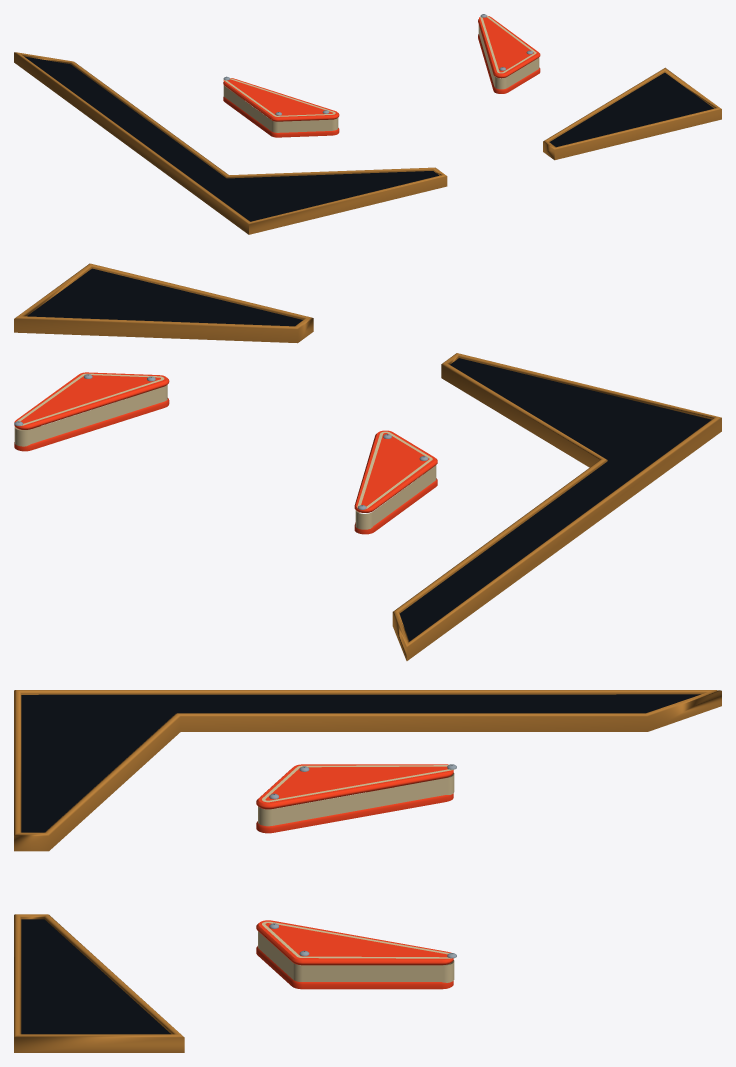
Rendered from common-plastics.dae.
The picture shows the model from 3 angles, top to bottom: view 1: azimuth 30°, elevation 25°; view 2: azimuth 150°, elevation 25°; view 3: azimuth 270°, elevation 25°; orthographic projection. The views are drawn at different scales.
Visible parts, largest first — view 1: cabinet_shell, accent, enamel, sling_lens_0, sling_lens_1; view 2: cabinet_shell, accent, enamel, sling_lens_1, sling_lens_0; view 3: cabinet_shell, accent, enamel, sling_lens_1, sling_lens_0.
Part boxes in pixels (bbox=[...]): cabinet_shell: bbox=[24, 56, 713, 221]; accent: bbox=[14, 52, 721, 234]; enamel: bbox=[223, 15, 539, 132]; sling_lens_0: bbox=[223, 78, 339, 137]; sling_lens_1: bbox=[478, 16, 540, 93]; cabinet_shell: bbox=[27, 268, 711, 641]; accent: bbox=[14, 263, 721, 660]; enamel: bbox=[14, 373, 436, 529]; sling_lens_1: bbox=[14, 372, 169, 451]; sling_lens_0: bbox=[354, 430, 437, 534]; cabinet_shell: bbox=[21, 694, 700, 1034]; accent: bbox=[14, 690, 721, 1052]; enamel: bbox=[258, 765, 454, 982]; sling_lens_1: bbox=[256, 920, 453, 989]; sling_lens_0: bbox=[256, 764, 453, 833].
Size of the model in its own units: 0.9604 by 0.0402 by 0.8276.
